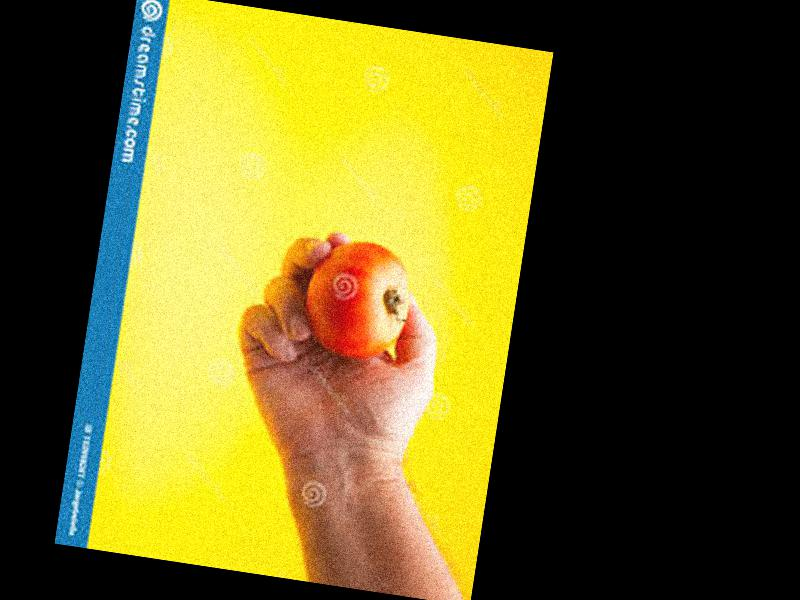Tomato: (299, 235, 416, 364)
